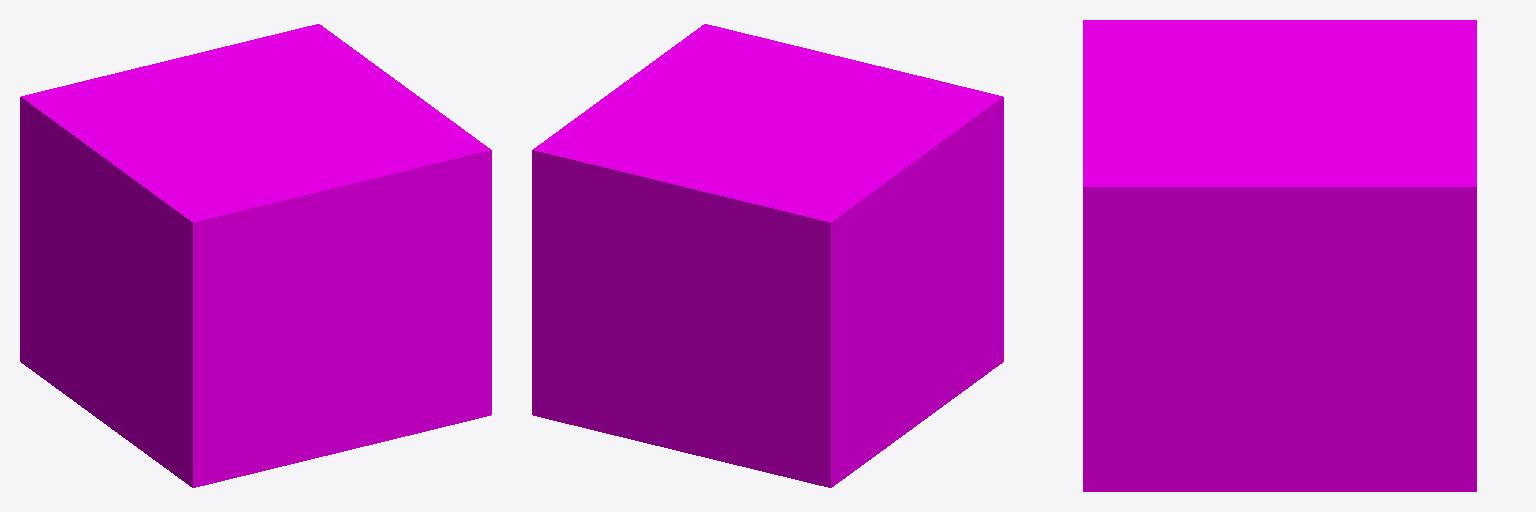
URDF robot description (cubeDE2):
<?xml version="1.0"?>
<robot name="cubeDE2">
	<link name="base">
	<inertial>
        	 <origin xyz="0 0 0" rpy="0 0 0"/>
        	 <mass value="1"/>
        	 <inertia ixx="0.000683333"  ixy="0"  ixz="0" iyy="0.000683333" iyz="0" izz="0.000683333" />
       </inertial>
		<visual>
			<origin xyz="0 0 0" rpy="0 0 0" />
			<geometry>
				<box size="0.02 0.02 0.017" />
			</geometry>
			<material>
				<color rgba="1 0 1 1" />
			</material>
		</visual>
	<collision>
            <origin xyz="0 0 0" rpy="0 0 0" />
            <geometry>
				<box size="0.02 0.02 0.017" />
            </geometry>
        </collision>
	</link>
</robot>

--- What the picture shows (computed from the rendered views, not written in the file) ---
The picture shows the robot from 3 angles, left to right: view 1: azimuth 30°, elevation 25°; view 2: azimuth 150°, elevation 25°; view 3: azimuth 270°, elevation 25°; orthographic projection.
Robot: cubeDE2 — 1 links, 0 joints (none); root link base; default pose: all joints at 0.
Links seen in each view (by area): view 1: base; view 2: base; view 3: base.
Boxes of the visible links, x1=… form: base: x1=20, y1=24, x2=491, y2=487; base: x1=532, y1=24, x2=1003, y2=487; base: x1=1083, y1=20, x2=1476, y2=491.
Size in the robot's own frame: 0.02 by 0.02 by 0.017 metres.
Geometry: primitives only (box / cylinder / sphere), no mesh files.
